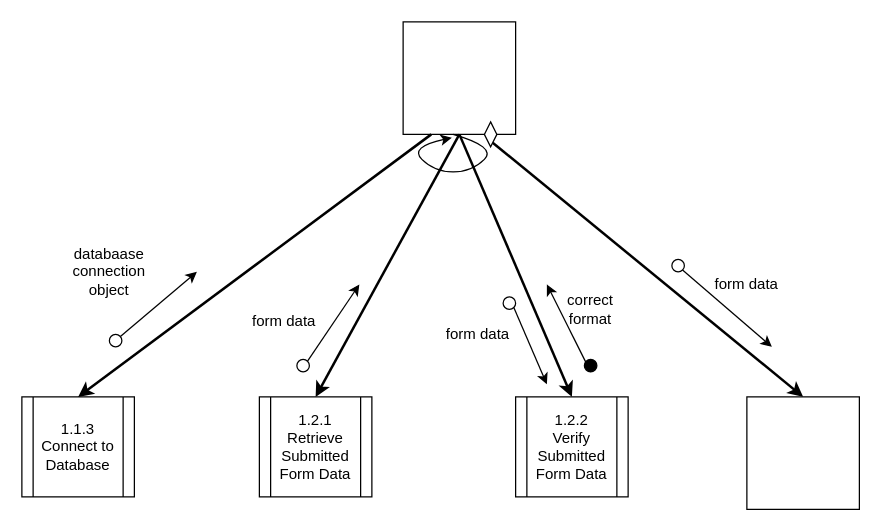
Image size: 881x531. Some labels were removed from this diagram. The shapes that lost their labels are listed below. From the top down, each one's centre as x and y in pixels, then its label:
At (x=459, y=77): "7.2 Add Department Info Into Department Table".
At (x=802, y=452): "7.2.4 Insert Submitted Form Data Into Department Table".
